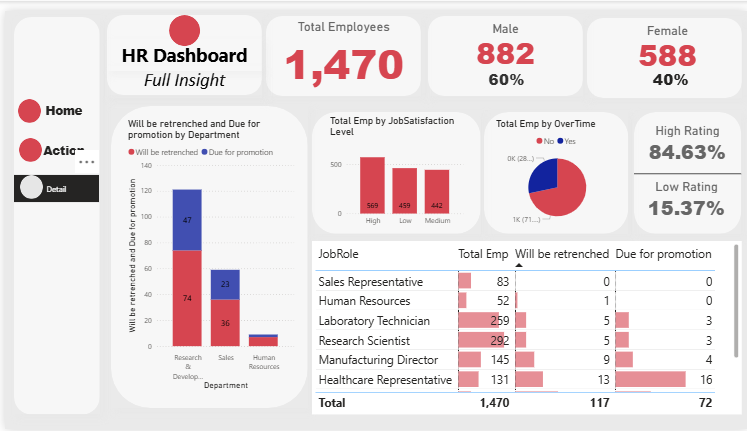

The page's visual inventory and layout, read from the dashboard file:
{"tool":"powerbi","page":{"name":"Detail","canvas":[1280,720],"ordinal":2},"visuals":[{"type":"shape","box":[15.1,10.1,147.8,685.4],"z":0},{"type":"shape","box":[176.4,6.7,267.1,137.7],"z":1000},{"type":"shape","box":[450.2,8.4,267.1,137.7],"z":2000},{"type":"shape","box":[729,8.4,267.1,137.7],"z":3000},{"type":"shape","box":[1002.8,11.8,267.1,137.7],"z":4000},{"type":"textbox","box":[176.4,94.1,267.1,55.4],"z":5000},{"type":"textbox","box":[176.4,48.7,267.1,55.4],"z":6000},{"type":"shape","box":[282.2,6.7,53.8,53.8],"z":7000},{"type":"card","title":"Total Employees","fields":{"Values":["All Measures.Total Emp"]},"box":[468.7,13.4,230.1,122.6],"z":8000},{"type":"card","title":"Male","fields":{"Values":["All Measures.Male"]},"box":[806.6,17.4,112.5,82.3],"z":9000},{"type":"card","title":"Male","fields":{"Values":["All Measures.% male"]},"box":[774.7,49.3,181.4,136.1],"z":10000},{"type":"card","title":"Female","fields":{"Values":["All Measures.Female"]},"box":[1085.3,21.2,115.9,82.3],"z":11000},{"type":"card","title":"Male","fields":{"Values":["All Measures.% female"]},"box":[1075.1,53.8,144.5,131],"z":12000},{"type":"shape","box":[183.1,162.9,339.3,520.7],"z":13000},{"type":"columnChart","fields":{"Category":["HR Analytics Data.Department"],"Y":["All Measures.Will be retrenched","All Measures.Due for promotion"]},"box":[206.6,184.8,297.3,473.7],"z":14000},{"type":"shape","box":[529.1,174.7,290.6,210],"z":15000},{"type":"shape","box":[826.5,174.7,248.6,210],"z":16000},{"type":"shape","box":[1085.1,174.7,184.8,210],"z":17000},{"type":"columnChart","fields":{"Category":["HR Analytics Data.JobSatisfaction Level"],"Y":["All Measures.Total Emp"]},"box":[554.3,179.7,240.2,199.9],"z":18000},{"type":"pieChart","fields":{"Category":["HR Analytics Data.OverTime"],"Y":["All Measures.Total Emp"]},"box":[841.6,184.8,221.7,191.5],"z":19000},{"type":"tableEx","fields":{"Values":["HR Analytics Data.JobRole","All Measures.Total Emp","All Measures.Will be retrenched","All Measures.Due for promotion"]},"box":[529.1,396.4,740.8,299],"z":20000},{"type":"shape","box":[1085.1,131,184.8,299],"z":21000},{"type":"card","title":"High Rating","fields":{"Values":["All Measures.%High rating"]},"box":[1090.2,193.2,174.2,75.9],"z":22000},{"type":"card","title":"Low Rating","fields":{"Values":["All Measures.%Low rating"]},"box":[1086.8,289.8,177.7,75.9],"z":23000},{"type":"pageNavigator","box":[27.6,146.6,148.3,50],"z":31000},{"type":"pageNavigator","box":[27.6,215.5,148.3,50],"z":32000},{"type":"pageNavigator","box":[13.8,281,150,50],"z":33000},{"type":"shape","box":[24.1,219,39.7,41.4],"z":34000},{"type":"shape","box":[25.9,282.8,39.7,41.4],"z":34001},{"type":"shape","box":[22.4,151.7,39.7,41.4],"z":34002}]}

Visuals, with their boxes on the page's 1280x720 design canvas (x1, y1, x2, y2). These are canvas units, not pixel positions in the 747x431 screenshot, which may show the page scaled, cropped or inside an application window:
shape: x1=15 y1=10 x2=163 y2=696
shape: x1=176 y1=7 x2=444 y2=144
shape: x1=450 y1=8 x2=717 y2=146
shape: x1=729 y1=8 x2=996 y2=146
shape: x1=1003 y1=12 x2=1270 y2=150
textbox: x1=176 y1=94 x2=444 y2=150
textbox: x1=176 y1=49 x2=444 y2=104
shape: x1=282 y1=7 x2=336 y2=60
"Total Employees" card: x1=469 y1=13 x2=699 y2=136
"Male" card: x1=807 y1=17 x2=919 y2=100
"Male" card: x1=775 y1=49 x2=956 y2=185
"Female" card: x1=1085 y1=21 x2=1201 y2=104
"Male" card: x1=1075 y1=54 x2=1220 y2=185
shape: x1=183 y1=163 x2=522 y2=684
columnChart - HR Analytics Data.Department x All Measures.Will be retrenched: x1=207 y1=185 x2=504 y2=658
shape: x1=529 y1=175 x2=820 y2=385
shape: x1=826 y1=175 x2=1075 y2=385
shape: x1=1085 y1=175 x2=1270 y2=385
columnChart - HR Analytics Data.JobSatisfaction Level x All Measures.Total Emp: x1=554 y1=180 x2=794 y2=380
pieChart - HR Analytics Data.OverTime x All Measures.Total Emp: x1=842 y1=185 x2=1063 y2=376
tableEx - HR Analytics Data.JobRole x All Measures.Total Emp: x1=529 y1=396 x2=1270 y2=695
shape: x1=1085 y1=131 x2=1270 y2=430
"High Rating" card: x1=1090 y1=193 x2=1264 y2=269
"Low Rating" card: x1=1087 y1=290 x2=1264 y2=366
pageNavigator: x1=28 y1=147 x2=176 y2=197
pageNavigator: x1=28 y1=216 x2=176 y2=266
pageNavigator: x1=14 y1=281 x2=164 y2=331
shape: x1=24 y1=219 x2=64 y2=260
shape: x1=26 y1=283 x2=66 y2=324
shape: x1=22 y1=152 x2=62 y2=193
